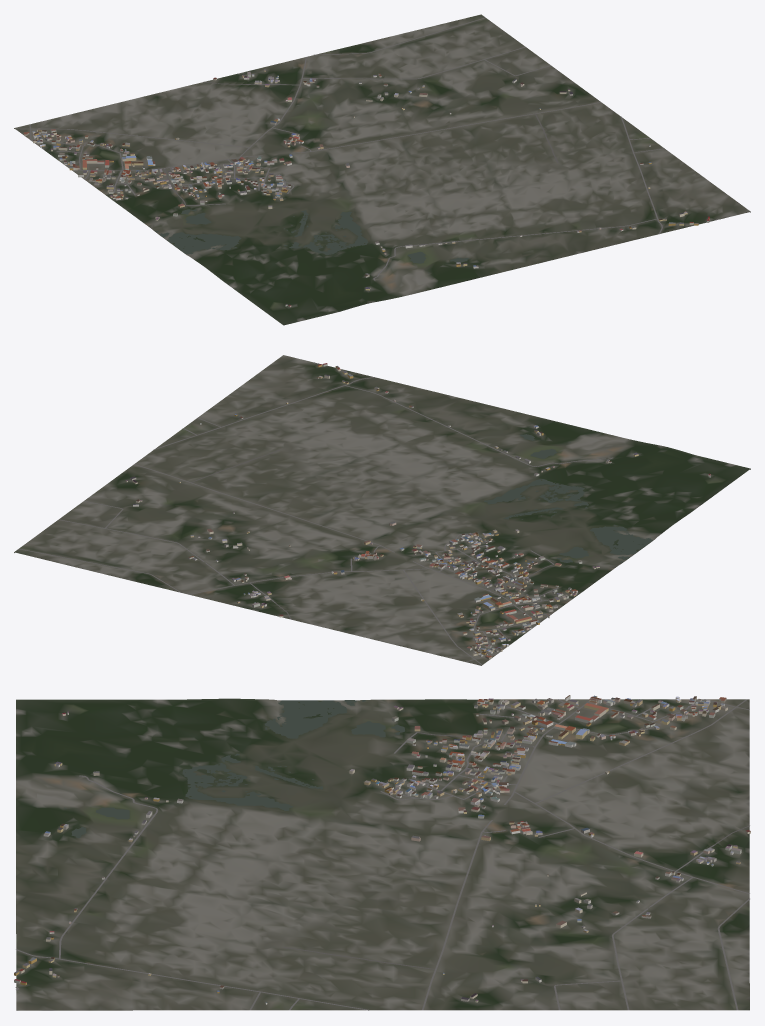
3 renders of one model, top to bottom at view 1: azimuth 30°, elevation 25°; view 2: azimuth 150°, elevation 25°; view 3: azimuth 270°, elevation 25°, orthographic. The views are drawn at different scales.
Parts seen in each view (by area): view 1: ground, buildings, roads, water; view 2: ground, buildings, roads, water; view 3: ground, buildings, water, roads.
Part boxes in pixels (box(x1,y1,x2,y2)): ground: box(14, 14, 750, 325); buildings: box(23, 69, 709, 307); roads: box(15, 17, 720, 280); water: box(155, 209, 468, 273); ground: box(14, 355, 750, 665); buildings: box(125, 363, 710, 659); roads: box(18, 362, 612, 665); water: box(484, 434, 652, 562); ground: box(16, 698, 749, 1010); buildings: box(14, 695, 750, 1004); water: box(64, 700, 404, 838); roads: box(15, 699, 749, 1010).
Bounding box in the file's own units: 1412 × 13.23 × 1408.
